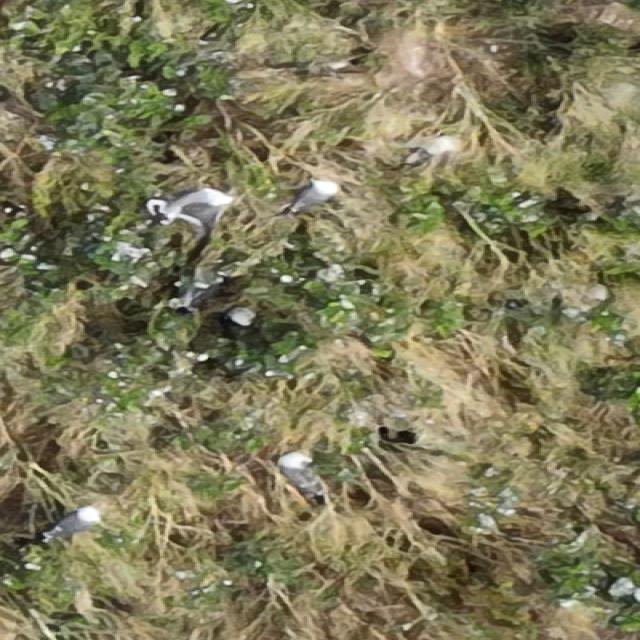umineko: (224, 305, 263, 353), (48, 509, 96, 535), (294, 182, 332, 207)
